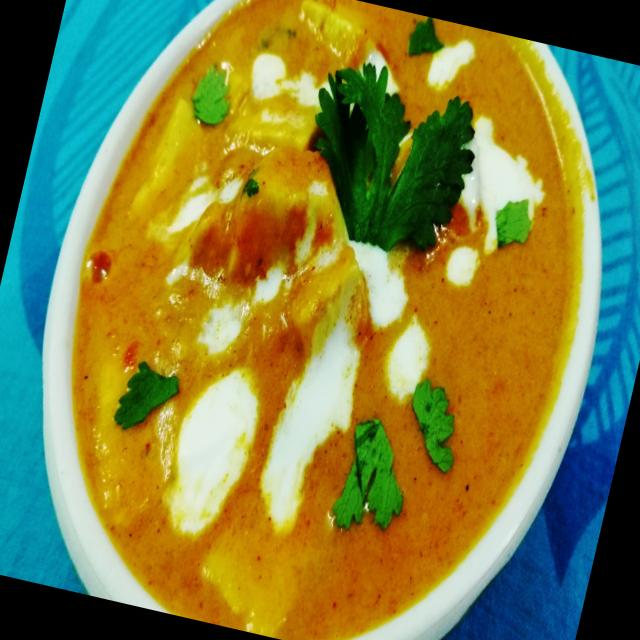ShahiPaneer: (6, 0, 629, 640)
